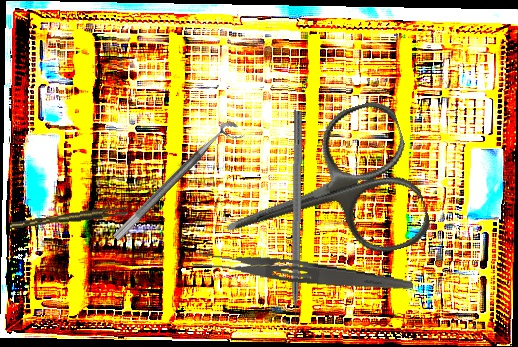Dressing Forceps: (191, 247, 415, 295)
Fixation Ring: (111, 116, 247, 253)
Hook Surgical: (287, 110, 303, 333)
Iris Scissors: (203, 95, 436, 298)
Tissue Forceps: (9, 206, 129, 229)
